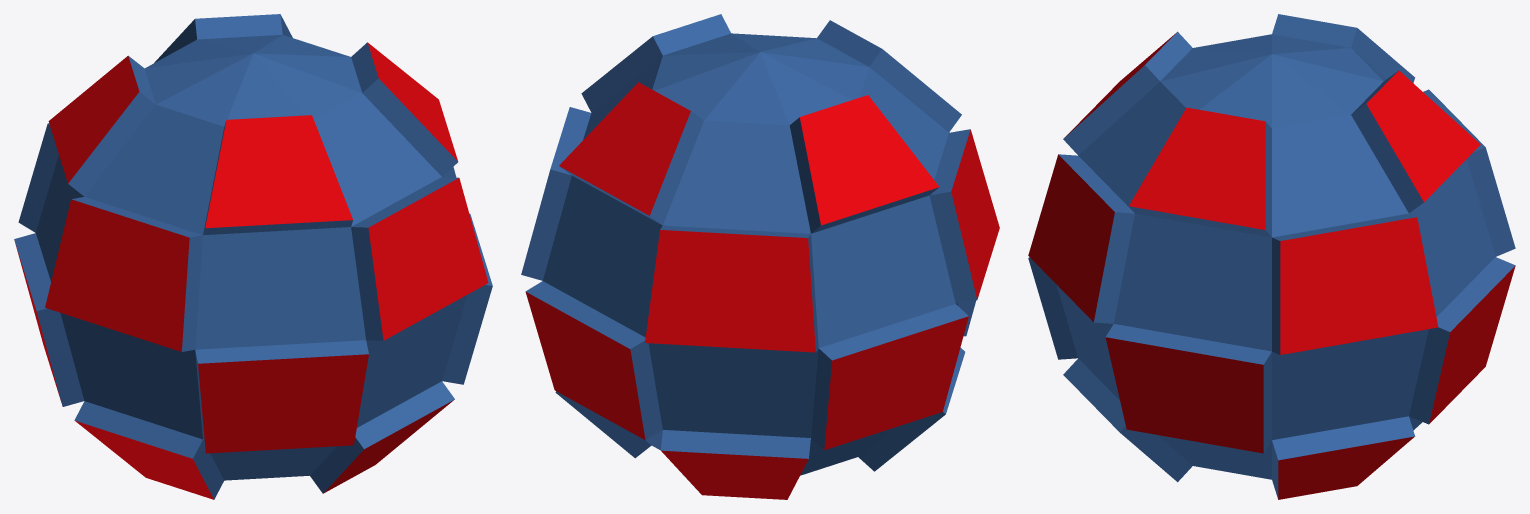
Rendered from Enemy.gltf.
3 views of the same model, side by side, from view 1: azimuth 30°, elevation 25°; view 2: azimuth 150°, elevation 25°; view 3: azimuth 270°, elevation 25° (orthographic).
Visible parts, largest first — view 1: 球; view 2: 球; view 3: 球.
Part boxes in pixels (bbox=[...]): 球: bbox=[14, 14, 492, 499]; 球: bbox=[521, 14, 999, 499]; 球: bbox=[1028, 14, 1515, 499].
Size of the model in its own units: 2.18 by 2 by 2.18.
